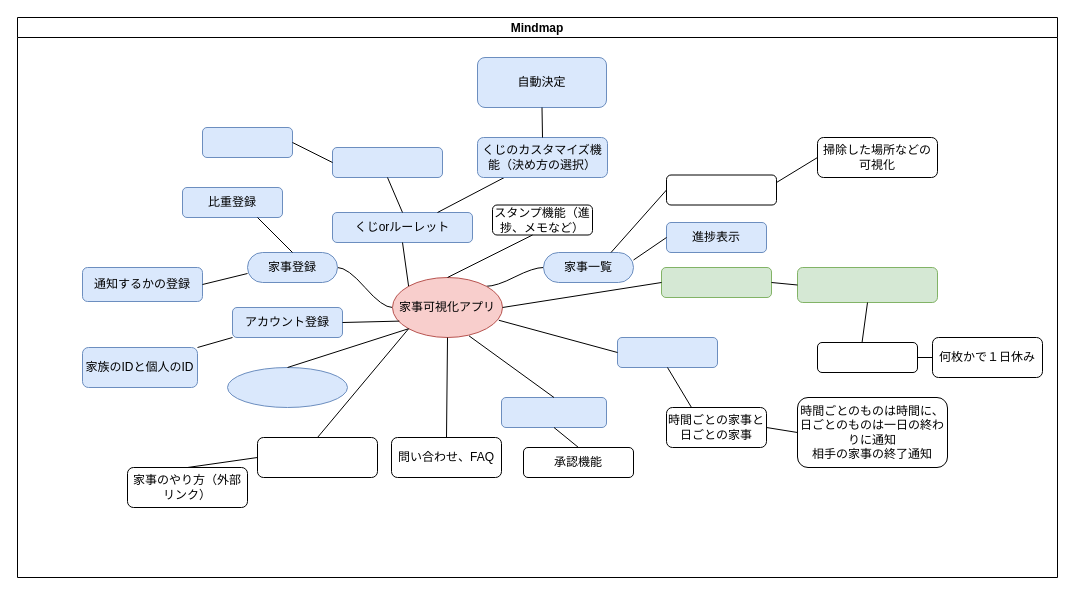
This 1075x595 diagram has some shape labels left out. The shapes that lost their labels are listed below. From the top down, each one's box as (x1, y1, x2, y2) in pixels, then its label:
(202, 126, 292, 158): グラフ
(332, 146, 442, 178): 分担の目標
(666, 174, 776, 205): 家事の詳細表示
(660, 266, 772, 298): 達成、継続報酬
(796, 266, 938, 302): 称号（年ごと・月ごと）
(616, 336, 718, 368): 通知機能
(816, 342, 918, 372): スキップ券
(226, 366, 348, 408): ホームに今日の家事
(500, 396, 606, 428): 家事ごとのメモ
(256, 436, 378, 478): 家事のやり方（自分で編集）
